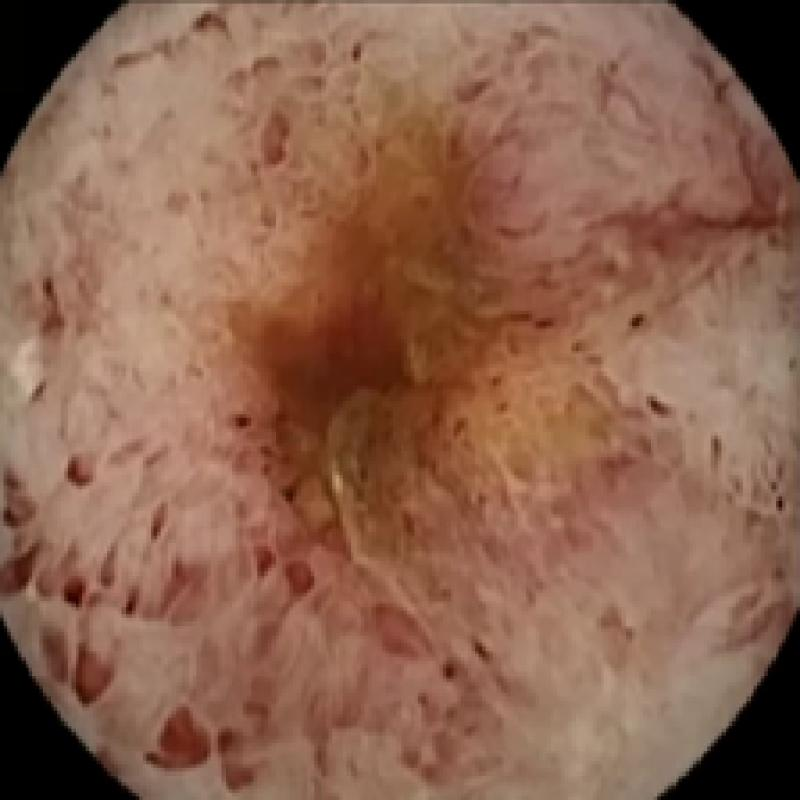bleeding: (12, 509, 312, 788), (260, 307, 404, 436)
